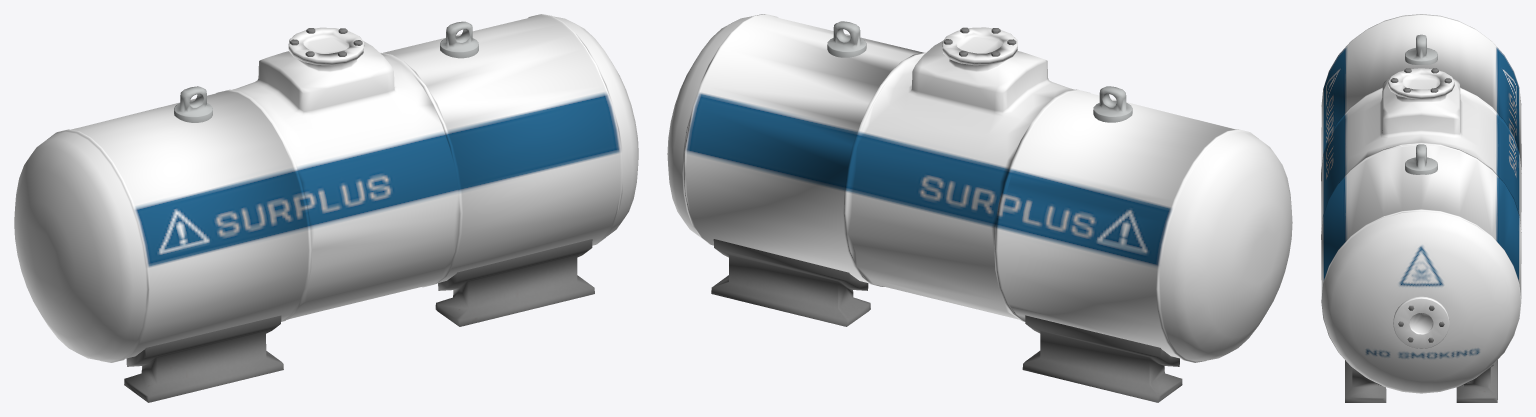
File: industrial_storage_tank_med.glb
3 views of the same model, side by side, from view 1: azimuth 30°, elevation 25°; view 2: azimuth 150°, elevation 25°; view 3: azimuth 270°, elevation 25° (orthographic). The views are drawn at different scales.
Parts seen in each view (by area): view 1: RetryTank_low, TankLegs_low, Hooks_low; view 2: RetryTank_low, TankLegs_low, Hooks_low; view 3: RetryTank_low, TankLegs_low, TankEnd_low, Hooks_low, TankTopBolts_low.
Boxes of the visible parts, <box> form: RetryTank_low: <box>14,14,638,362</box>; TankLegs_low: <box>124,239,594,402</box>; Hooks_low: <box>174,21,478,122</box>; RetryTank_low: <box>667,14,1292,362</box>; TankLegs_low: <box>711,239,1182,402</box>; Hooks_low: <box>827,21,1132,122</box>; RetryTank_low: <box>1321,14,1521,393</box>; TankLegs_low: <box>1345,360,1497,402</box>; TankEnd_low: <box>1393,296,1449,348</box>; Hooks_low: <box>1405,34,1437,174</box>; TankTopBolts_low: <box>1390,68,1451,92</box>.
Bounding box in the file's own units: 14.89 × 6.77 × 5.32.
Materials: 1 (1 with a texture image).
